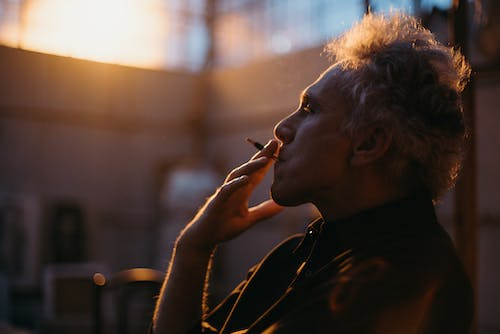cigarette: (244, 136, 280, 162)
